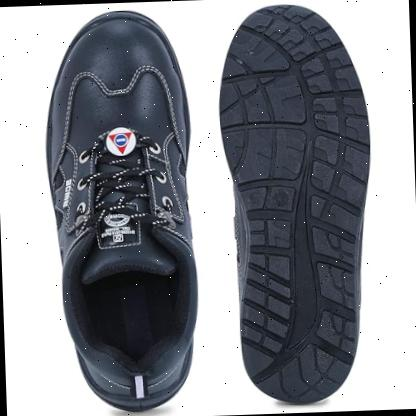bota: (210, 0, 383, 415), (37, 3, 206, 416)
